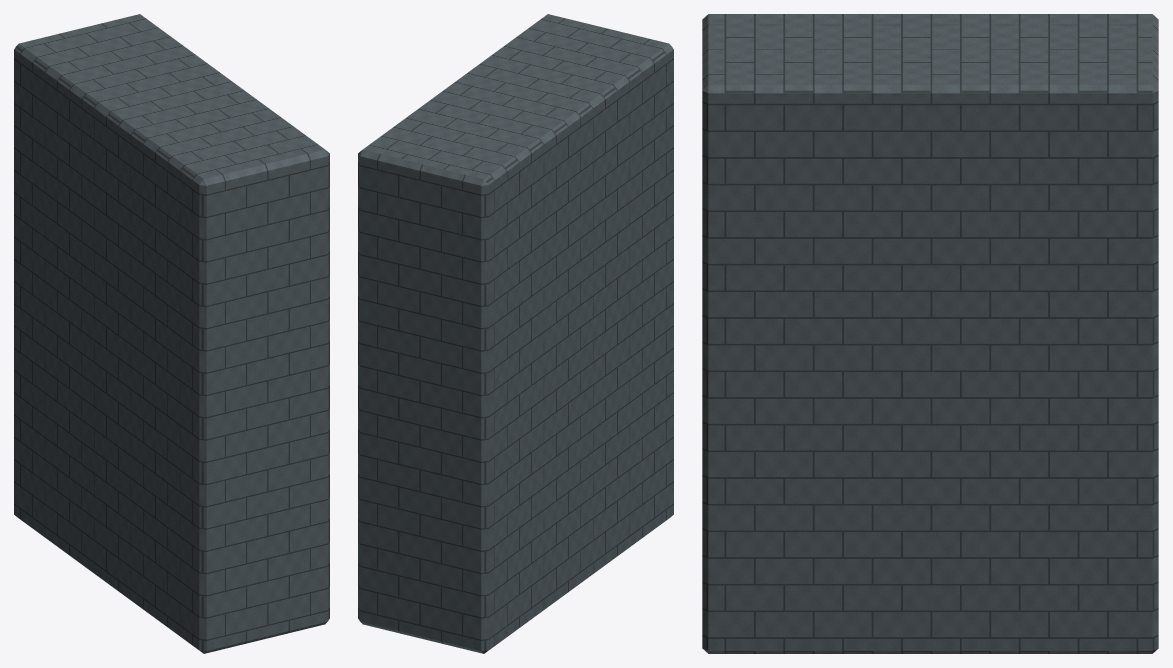
File: wall_module.glb
3 renders of one model, left to right at view 1: azimuth 30°, elevation 25°; view 2: azimuth 150°, elevation 25°; view 3: azimuth 270°, elevation 25°, orthographic. The views are drawn at different scales.
Visible parts, largest first — view 1: ASSET_wall_module; view 2: ASSET_wall_module; view 3: ASSET_wall_module.
Boxes of the visible parts, <box> form: ASSET_wall_module: <box>14,14,329,653</box>; ASSET_wall_module: <box>358,14,673,653</box>; ASSET_wall_module: <box>702,14,1158,653</box>.
Size of the model in its own units: 2.3 by 8 by 5.82.
1 material, 1 textured.
